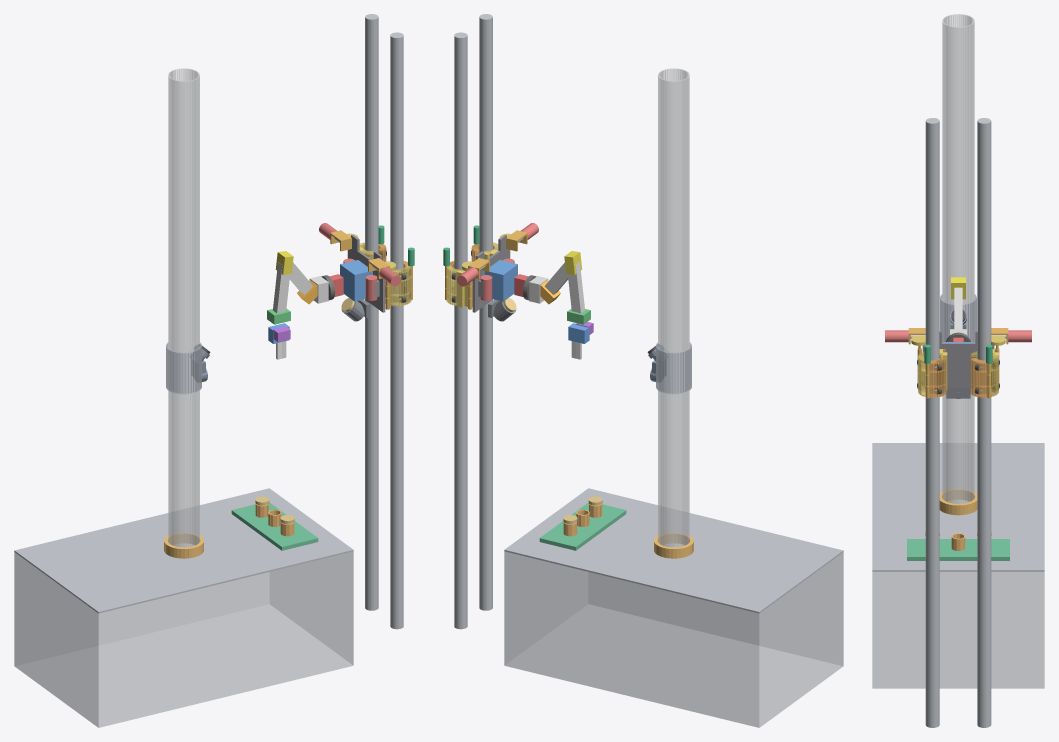
The model's file is transplant-seedling-step2-drive-v3.glb.
The picture shows the model from 3 angles, left to right: view 1: azimuth 30°, elevation 25°; view 2: azimuth 150°, elevation 25°; view 3: azimuth 270°, elevation 25°; orthographic projection. The views are drawn at different scales.
Bounding box in the file's own units: 0.94 × 1.55 × 0.4.
